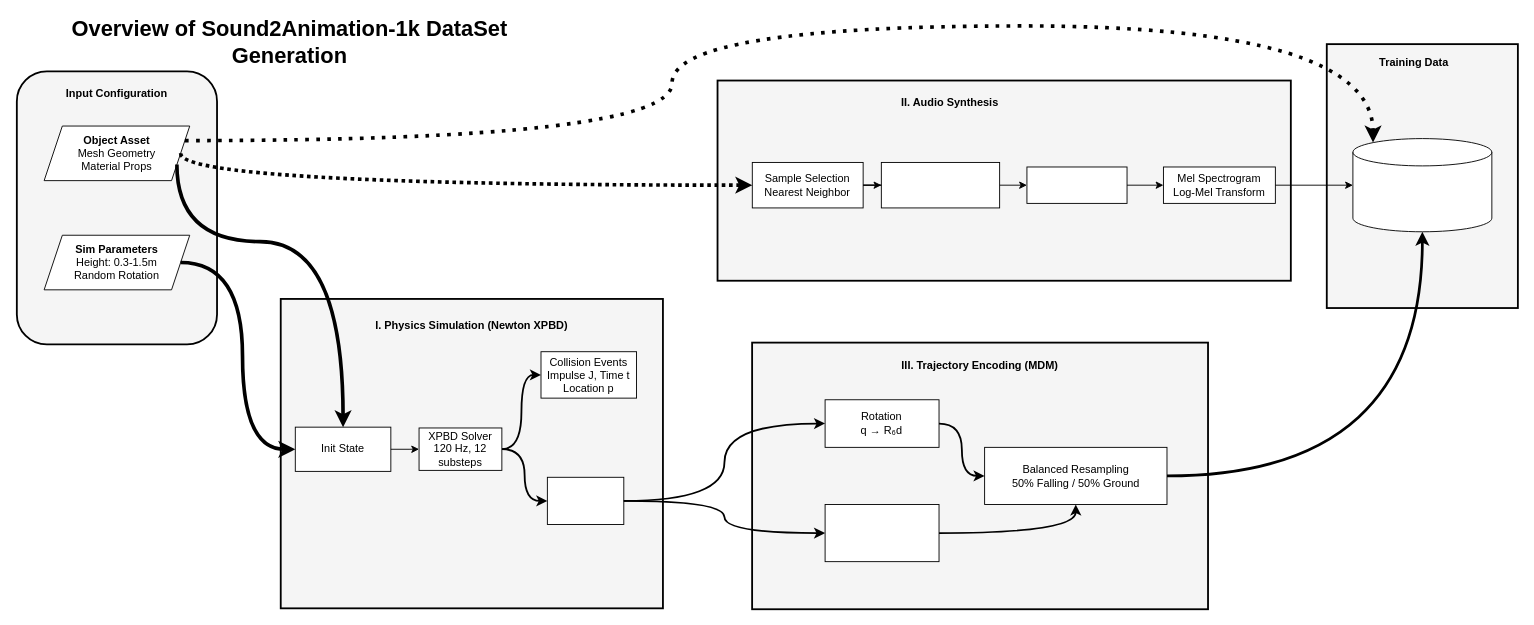
Some shapes in this 1534 by 625 pixel diagram are drawn without their labels. The box of each missing label's shape, as (x1, y1, x2, y2) in pixels:
Gain Scaling dB = 20-log₁₀(J/Jref): (880, 162, 1000, 208)
Sample Dictionary Motion: [360, 11] Audio: [128, T] Text Description: (1352, 138, 1492, 232)
State History Pos x, Rot q Contact c: (546, 476, 624, 525)
Superposition & Normalization: (1026, 166, 1127, 203)
Velocities v_lin ∈ R³ ω_z ∈ R: (824, 504, 939, 562)
